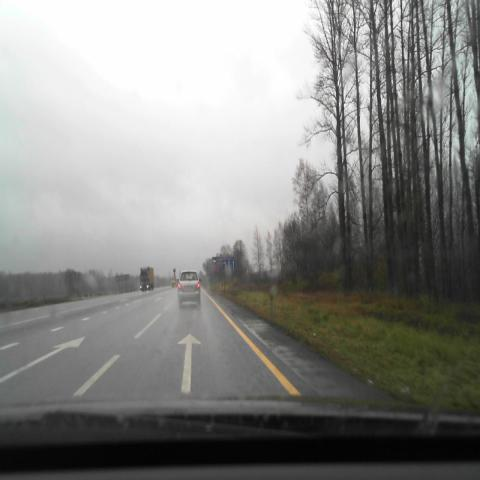5_15_1: (223, 259, 235, 271)
